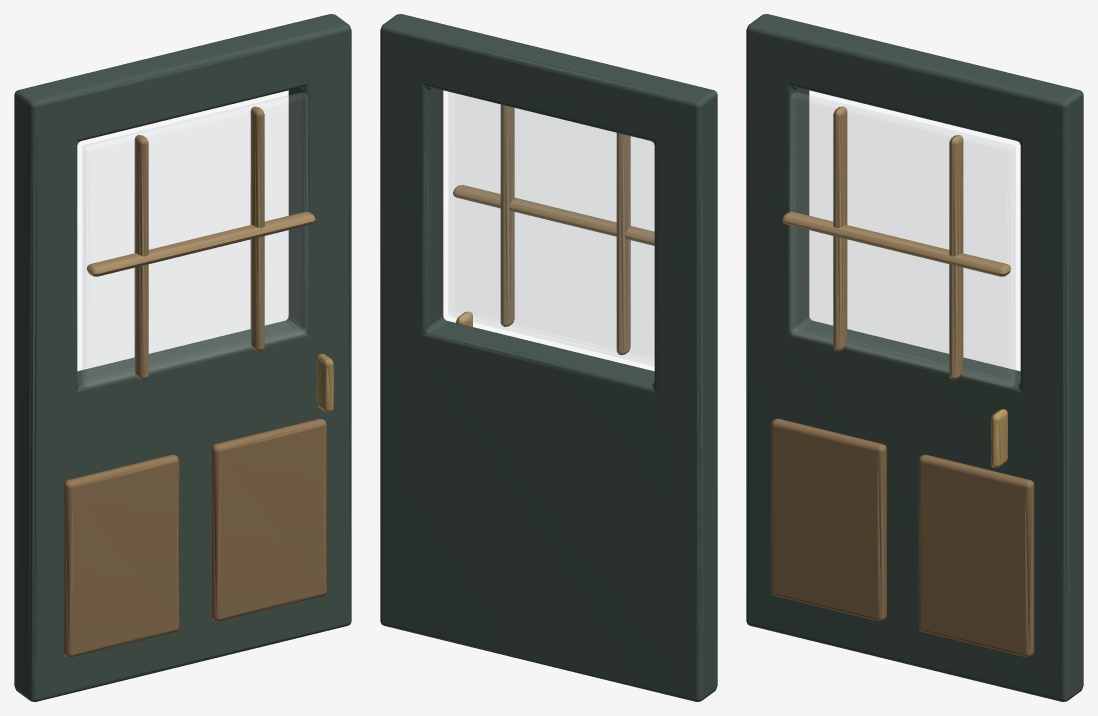
File: SM_GrahamShop_Door_Entrance.fbx
3 views of the same model, side by side, from view 1: azimuth 30°, elevation 25°; view 2: azimuth 150°, elevation 25°; view 3: azimuth 330°, elevation 25° (orthographic).
Visible parts, largest first — view 1: GRM_Door_Entrance.001; view 2: GRM_Door_Entrance.001; view 3: GRM_Door_Entrance.001.
Boxes of the visible parts, x1,y1,x2,y2 form: GRM_Door_Entrance.001: [14, 14, 351, 701]; GRM_Door_Entrance.001: [380, 14, 717, 701]; GRM_Door_Entrance.001: [746, 14, 1083, 701].
Size of the model in its own units: 122 by 29.5 by 218.
